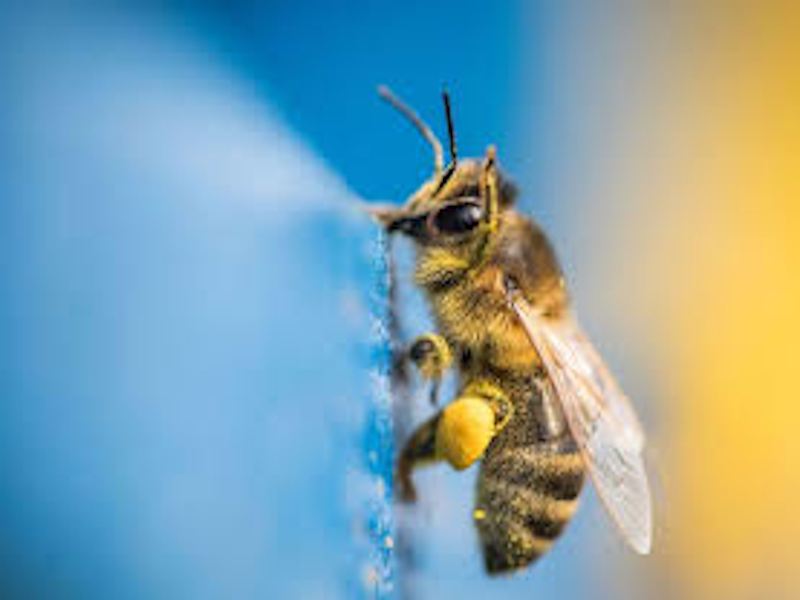abeja: (332, 36, 680, 574)
